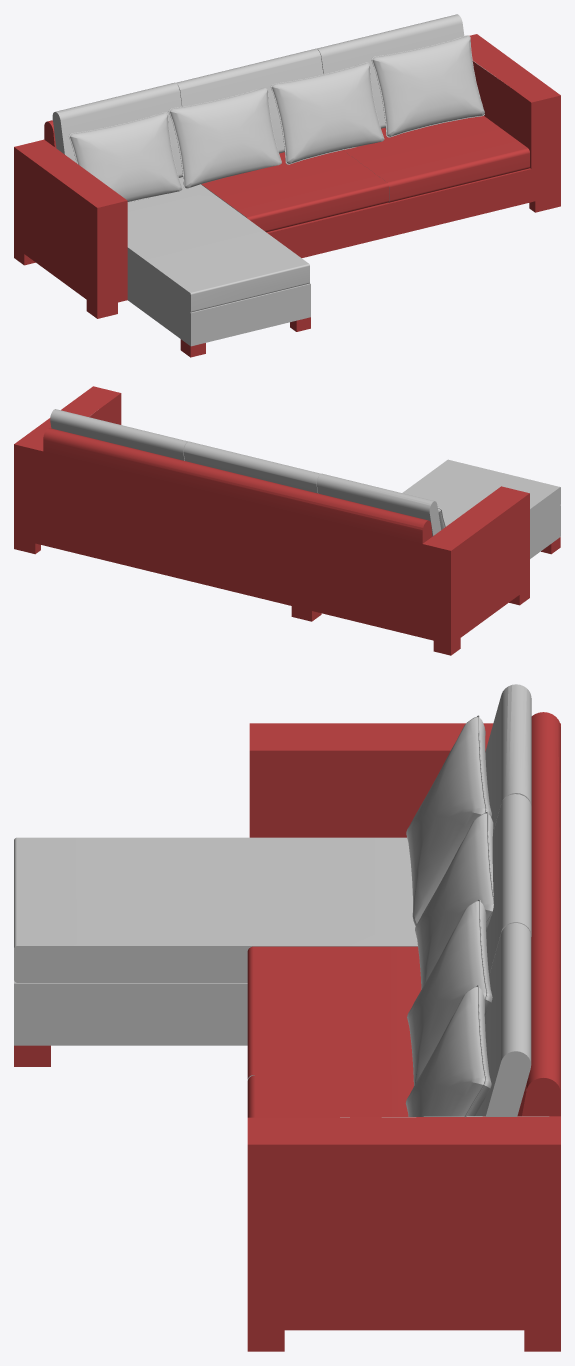
File: sofa3.obj
The picture shows the model from 3 angles, top to bottom: view 1: azimuth 30°, elevation 25°; view 2: azimuth 150°, elevation 25°; view 3: azimuth 270°, elevation 25°; orthographic projection. The views are drawn at different scales.
Parts seen in each view (by area): view 1: Mesh.011_mesh-aecceb14-52a2-4008-aeaf-2e7e0d9d1366, Mesh.014_mesh-a90edda5-cddd-4544-b04c-bf3d28e308b8, Mesh.028_mesh-af39638b-0347-4714-a697-f6c0482956f0, Mesh.029_mesh-a3662d98-cf50-46d7-81ee-b35a2cb14d73, Mesh.027_mesh-a74846c3-ed80-4870-a054-0c73e88dac3c, Mesh.026_mesh-ae8f619f-61ff-47bb-85f7-d00d96e81cf4, Mesh.012_mesh-a5c9c127-4c5f-421a-8244-38e2a6155603, Mesh.015_mesh-a14c152e-54c1-4e01-a5be-e4c9e26fdb74, Mesh.013_mesh-a78c2d8c-1e02-46f9-977b-54467e8dca8a; view 2: Mesh.011_mesh-aecceb14-52a2-4008-aeaf-2e7e0d9d1366, Mesh.014_mesh-a90edda5-cddd-4544-b04c-bf3d28e308b8, Mesh.012_mesh-a5c9c127-4c5f-421a-8244-38e2a6155603, Mesh.013_mesh-a78c2d8c-1e02-46f9-977b-54467e8dca8a, Mesh.015_mesh-a14c152e-54c1-4e01-a5be-e4c9e26fdb74; view 3: Mesh.011_mesh-aecceb14-52a2-4008-aeaf-2e7e0d9d1366, Mesh.014_mesh-a90edda5-cddd-4544-b04c-bf3d28e308b8, Mesh.026_mesh-ae8f619f-61ff-47bb-85f7-d00d96e81cf4, Mesh.013_mesh-a78c2d8c-1e02-46f9-977b-54467e8dca8a, Mesh.028_mesh-af39638b-0347-4714-a697-f6c0482956f0, Mesh.029_mesh-a3662d98-cf50-46d7-81ee-b35a2cb14d73, Mesh.027_mesh-a74846c3-ed80-4870-a054-0c73e88dac3c, Mesh.012_mesh-a5c9c127-4c5f-421a-8244-38e2a6155603, Mesh.015_mesh-a14c152e-54c1-4e01-a5be-e4c9e26fdb74, Mesh.018_mesh-a3aefd00-1712-4215-b368-202a2235ccde, Mesh.020_mesh-e612cd0c-7659-425d-bb23-c7684a838a72, Mesh.025_mesh-ab48c7a2-90f0-4f5a-9a29-d50e6faef852.
Boxes of the visible parts, bbox=[...] form: Mesh.011_mesh-aecceb14-52a2-4008-aeaf-2e7e0d9d1366: bbox=[14, 34, 560, 307]; Mesh.014_mesh-a90edda5-cddd-4544-b04c-bf3d28e308b8: bbox=[127, 177, 310, 346]; Mesh.028_mesh-af39638b-0347-4714-a697-f6c0482956f0: bbox=[371, 35, 484, 137]; Mesh.029_mesh-a3662d98-cf50-46d7-81ee-b35a2cb14d73: bbox=[271, 62, 384, 164]; Mesh.027_mesh-a74846c3-ed80-4870-a054-0c73e88dac3c: bbox=[168, 87, 281, 188]; Mesh.026_mesh-ae8f619f-61ff-47bb-85f7-d00d96e81cf4: bbox=[69, 112, 182, 202]; Mesh.012_mesh-a5c9c127-4c5f-421a-8244-38e2a6155603: bbox=[176, 48, 323, 150]; Mesh.015_mesh-a14c152e-54c1-4e01-a5be-e4c9e26fdb74: bbox=[52, 82, 385, 177]; Mesh.013_mesh-a78c2d8c-1e02-46f9-977b-54467e8dca8a: bbox=[317, 14, 464, 125]; Mesh.011_mesh-aecceb14-52a2-4008-aeaf-2e7e0d9d1366: bbox=[14, 386, 529, 644]; Mesh.014_mesh-a90edda5-cddd-4544-b04c-bf3d28e308b8: bbox=[402, 459, 560, 558]; Mesh.012_mesh-a5c9c127-4c5f-421a-8244-38e2a6155603: bbox=[183, 441, 321, 493]; Mesh.013_mesh-a78c2d8c-1e02-46f9-977b-54467e8dca8a: bbox=[50, 409, 188, 460]; Mesh.015_mesh-a14c152e-54c1-4e01-a5be-e4c9e26fdb74: bbox=[317, 473, 440, 536]; Mesh.011_mesh-aecceb14-52a2-4008-aeaf-2e7e0d9d1366: bbox=[247, 712, 560, 1330]; Mesh.014_mesh-a90edda5-cddd-4544-b04c-bf3d28e308b8: bbox=[14, 837, 417, 1045]; Mesh.026_mesh-ae8f619f-61ff-47bb-85f7-d00d96e81cf4: bbox=[406, 715, 491, 925]; Mesh.013_mesh-a78c2d8c-1e02-46f9-977b-54467e8dca8a: bbox=[475, 923, 531, 1116]; Mesh.028_mesh-af39638b-0347-4714-a697-f6c0482956f0: bbox=[405, 985, 491, 1117]; Mesh.029_mesh-a3662d98-cf50-46d7-81ee-b35a2cb14d73: bbox=[407, 899, 492, 1085]; Mesh.027_mesh-a74846c3-ed80-4870-a054-0c73e88dac3c: bbox=[415, 811, 493, 989]; Mesh.012_mesh-a5c9c127-4c5f-421a-8244-38e2a6155603: bbox=[486, 794, 531, 975]; Mesh.015_mesh-a14c152e-54c1-4e01-a5be-e4c9e26fdb74: bbox=[485, 684, 531, 832]; Mesh.018_mesh-a3aefd00-1712-4215-b368-202a2235ccde: bbox=[247, 1330, 284, 1351]; Mesh.020_mesh-e612cd0c-7659-425d-bb23-c7684a838a72: bbox=[524, 1330, 560, 1351]; Mesh.025_mesh-ab48c7a2-90f0-4f5a-9a29-d50e6faef852: bbox=[14, 1045, 50, 1066].
Size of the model in its own units: 17.12 by 5.19 by 9.39.
